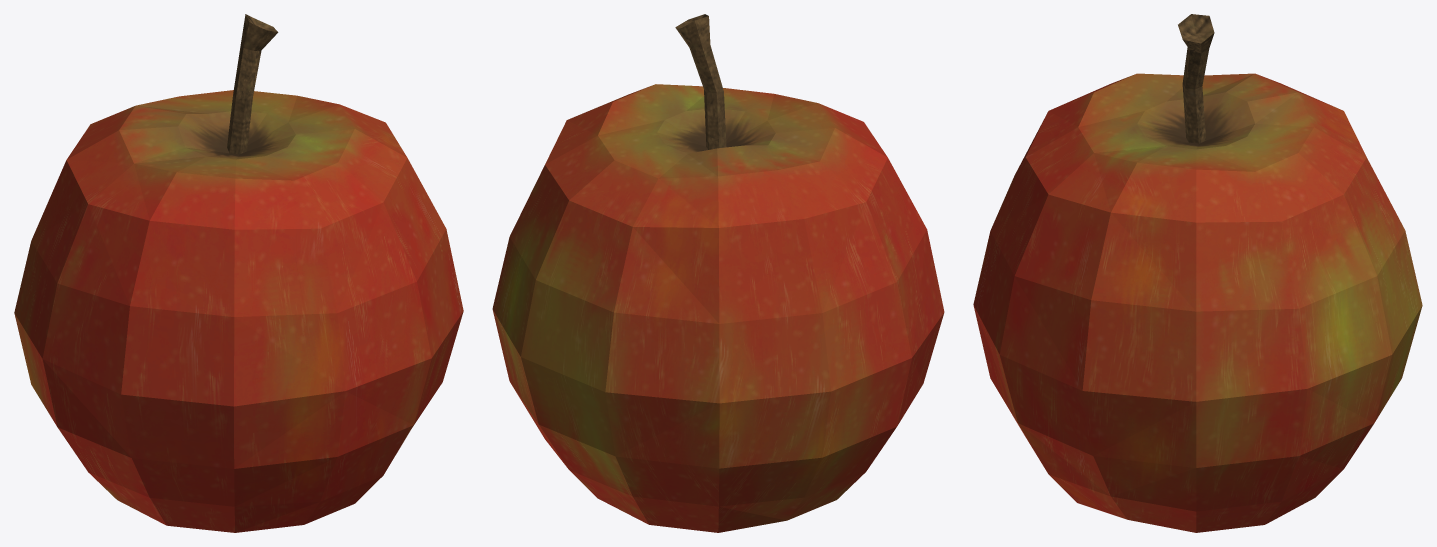
Rendered from apple.obj.
The picture shows the model from 3 angles, left to right: view 1: azimuth 30°, elevation 25°; view 2: azimuth 150°, elevation 25°; view 3: azimuth 270°, elevation 25°; orthographic projection. The views are drawn at different scales.
Visible parts, largest first — view 1: applemesh; view 2: applemesh; view 3: applemesh.
Boxes of the visible parts, <box> form: applemesh: <box>14,14,463,532</box>; applemesh: <box>492,14,944,532</box>; applemesh: <box>973,14,1422,532</box>.
Bounding box in the file's own units: 2.05 × 2.36 × 2.
1 material, 1 textured.
